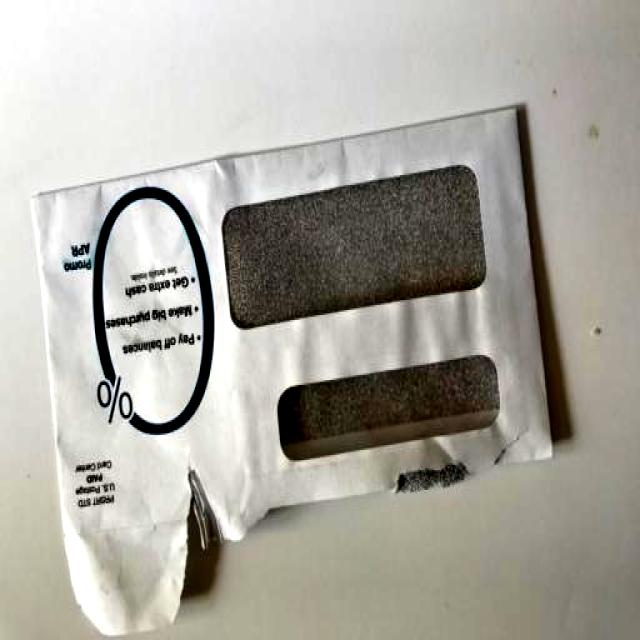paper: (19, 96, 559, 567)
